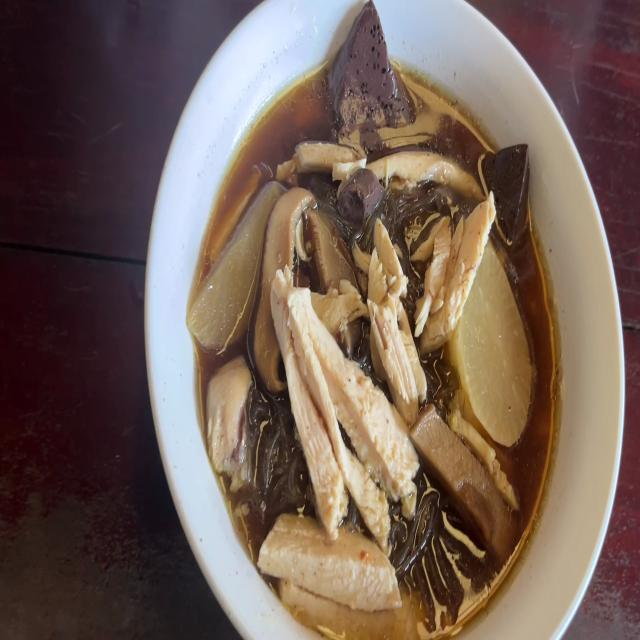noodle: (326, 0, 411, 130), (476, 142, 530, 225), (337, 167, 382, 217)
